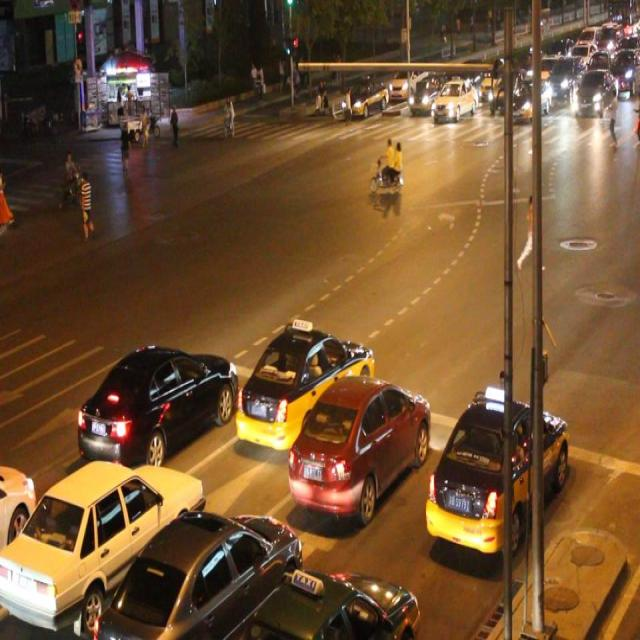car: (1, 456, 202, 627), (90, 507, 303, 640), (421, 392, 570, 556), (286, 371, 431, 524), (76, 340, 235, 464), (233, 324, 375, 451), (240, 564, 420, 640), (1, 458, 38, 564)
